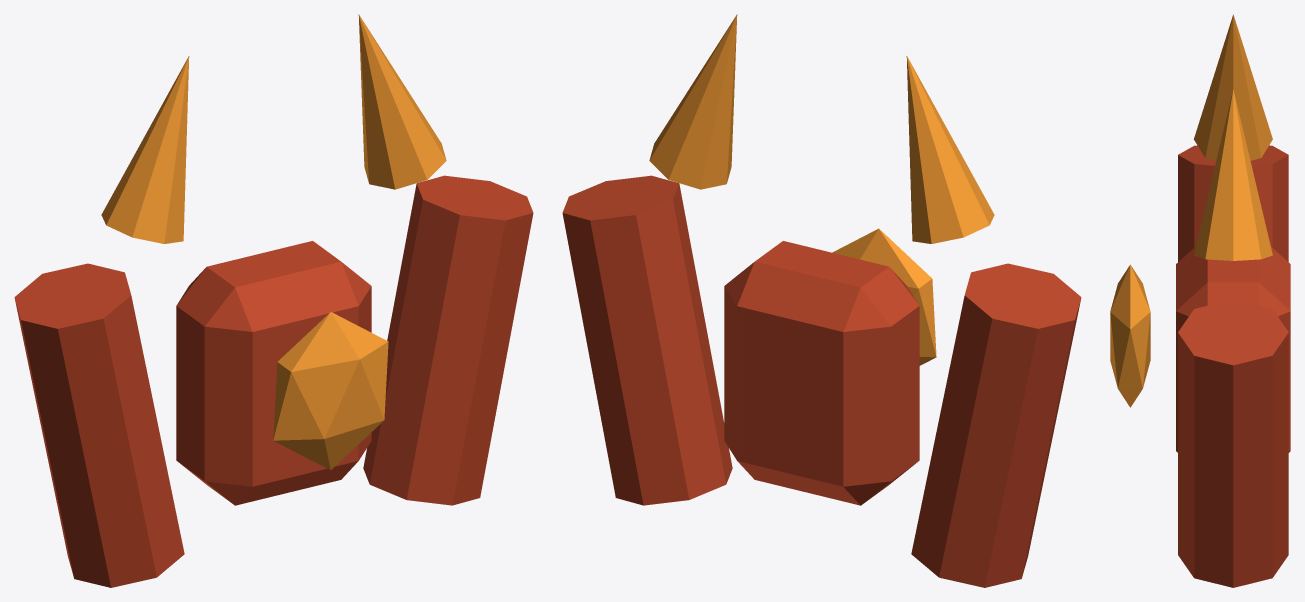
The model's file is boss_cinder_colossus.glb.
3 renders of one model, left to right at view 1: azimuth 30°, elevation 25°; view 2: azimuth 150°, elevation 25°; view 3: azimuth 270°, elevation 25°, orthographic. The views are drawn at different scales.
Visible parts, largest first — view 1: boss_cinder_colossus; view 2: boss_cinder_colossus; view 3: boss_cinder_colossus.
Part boxes in pixels (left/top/right/bottom): boss_cinder_colossus: left=14, top=14, right=533, bottom=587; boss_cinder_colossus: left=562, top=14, right=1081, bottom=587; boss_cinder_colossus: left=1110, top=14, right=1290, bottom=587.
Size of the model in its own units: 2.67 by 2.5 by 0.9121.
